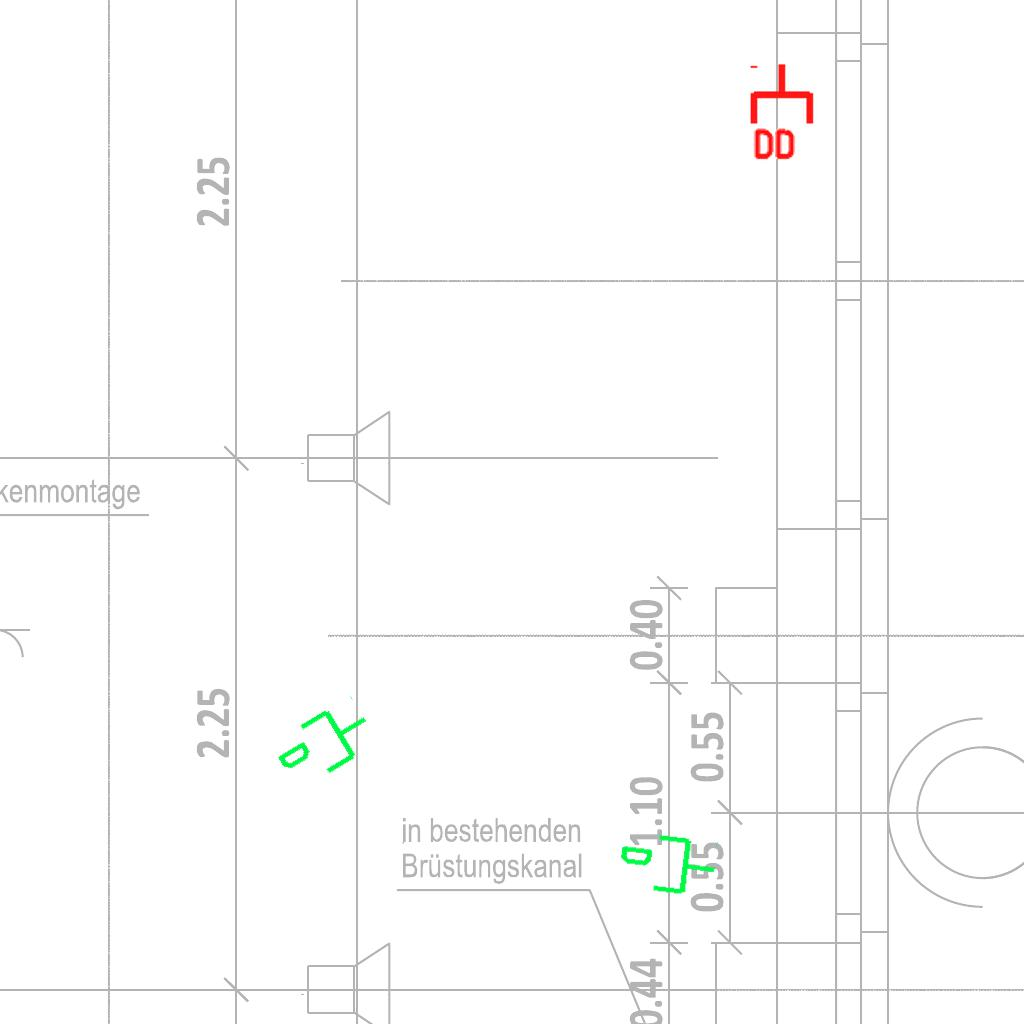Datenanschluss_einfach: (264, 689, 387, 801), (613, 825, 722, 907)
Datenanschluss_zweifach: (749, 61, 818, 164)
